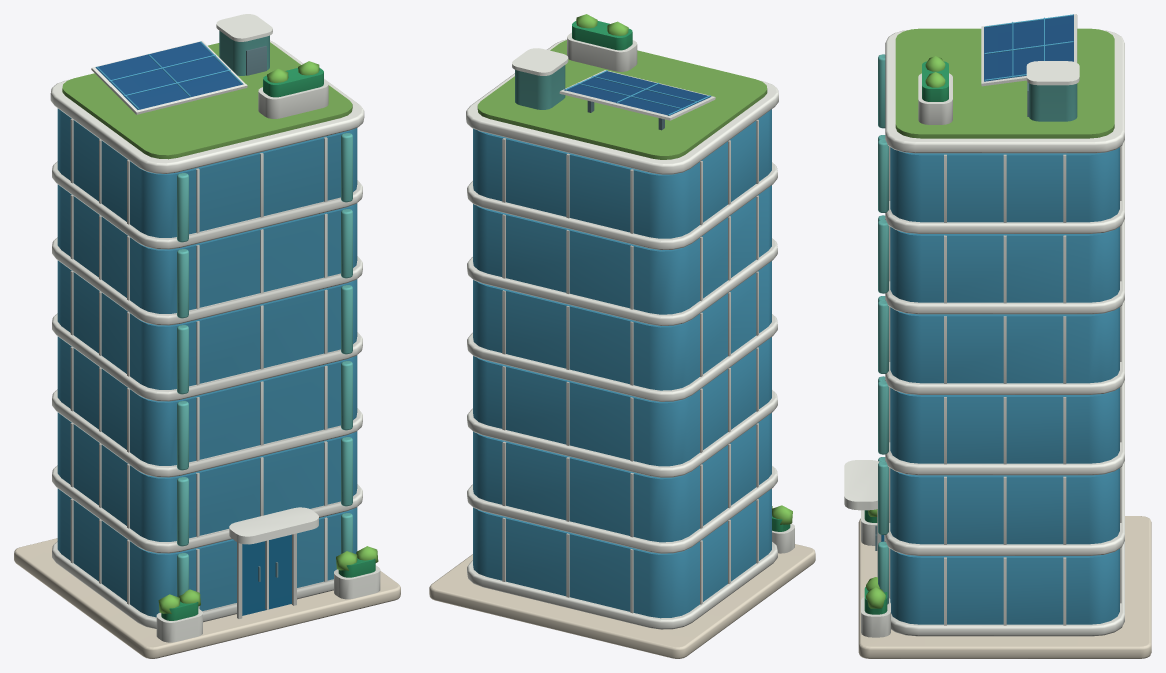
Rendered from townhouse-sage-low.glb.
The picture shows the model from 3 angles, left to right: view 1: azimuth 30°, elevation 25°; view 2: azimuth 150°, elevation 25°; view 3: azimuth 270°, elevation 25°; orthographic projection. The views are drawn at different scales.
Visible parts, largest first — view 1: continuous blue glazing, floor rim, green roof, coloured facade fin, paved building footprint, photovoltaic cells, recessed entrance, planter foliage, shrub tip, roof access hatch; view 2: continuous blue glazing, floor rim, green roof, paved building footprint, photovoltaic cells, coloured facade fin, planter foliage, shrub tip; view 3: continuous blue glazing, floor rim, green roof, paved building footprint, coloured facade fin, photovoltaic cells, planter foliage, shrub tip.
Boxes of the visible parts, x1=… form: continuous blue glazing: x1=57, y1=41, x2=357, y2=617; floor rim: x1=50, y1=14, x2=380, y2=642; green roof: x1=62, y1=42, x2=352, y2=159; coloured facade fin: x1=177, y1=31, x2=352, y2=597; paved building footprint: x1=14, y1=538, x2=400, y2=658; photovoltaic cells: x1=95, y1=41, x2=243, y2=109; recessed entrance: x1=242, y1=534, x2=291, y2=615; planter foliage: x1=161, y1=67, x2=375, y2=620; shrub tip: x1=158, y1=61, x2=378, y2=613; roof access hatch: x1=246, y1=45, x2=278, y2=581; continuous blue glazing: x1=473, y1=70, x2=771, y2=618; floor rim: x1=466, y1=32, x2=794, y2=629; green roof: x1=477, y1=40, x2=767, y2=159; paved building footprint: x1=429, y1=544, x2=815, y2=658; photovoltaic cells: x1=564, y1=71, x2=711, y2=115; coloured facade fin: x1=515, y1=65, x2=565, y2=109; planter foliage: x1=572, y1=21, x2=790, y2=531; shrub tip: x1=576, y1=14, x2=792, y2=524; continuous blue glazing: x1=890, y1=14, x2=1119, y2=624; floor rim: x1=844, y1=14, x2=1124, y2=637; green roof: x1=895, y1=28, x2=1114, y2=138; paved building footprint: x1=858, y1=516, x2=1151, y2=658; coloured facade fin: x1=878, y1=54, x2=1077, y2=604; photovoltaic cells: x1=984, y1=14, x2=1073, y2=81; planter foliage: x1=864, y1=61, x2=948, y2=614; shrub tip: x1=866, y1=56, x2=945, y2=608.
Bounding box in the file's own units: 2.72 × 5.33 × 2.66.
